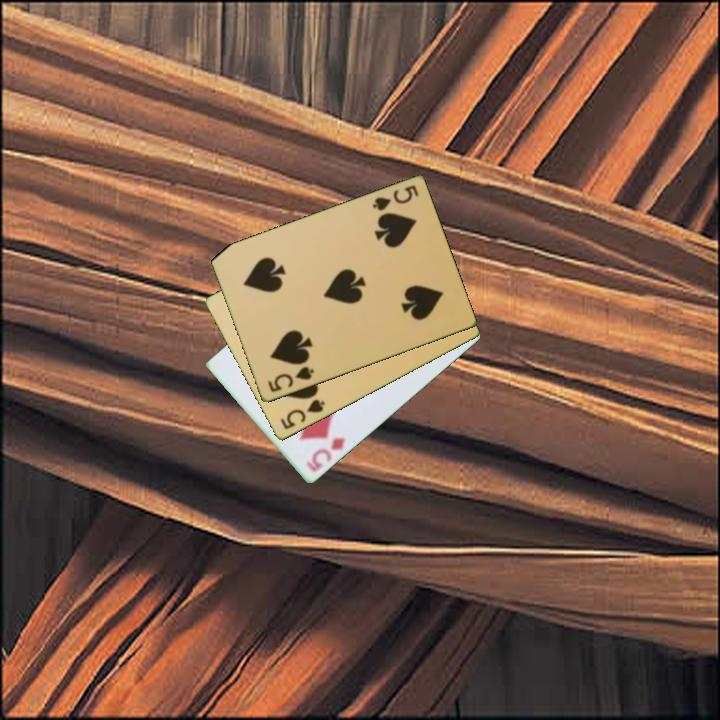5d: (303, 434, 348, 475)
5s: (277, 396, 328, 433), (264, 363, 317, 395), (369, 182, 421, 214)
